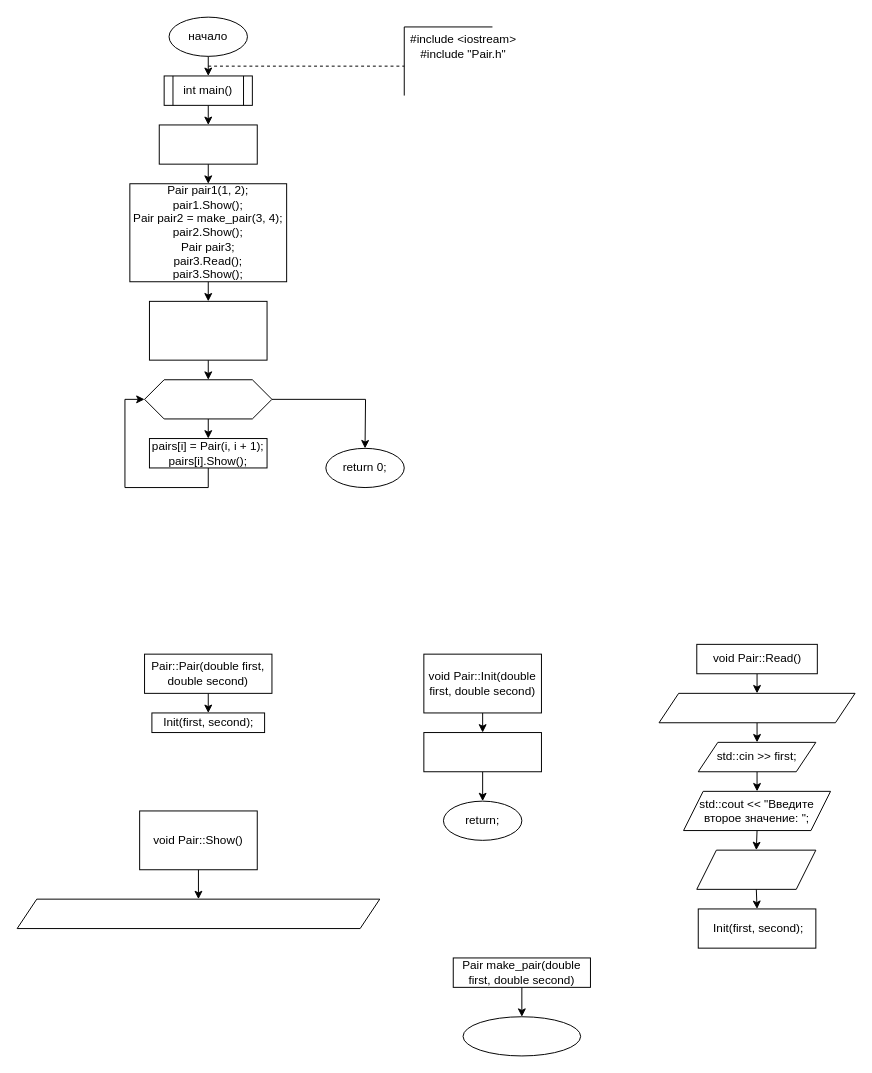
Image size: 872x1073. Some labels were removed from this diagram. Here are the shapes that lost their labels. From the top down, the centre of each, then its label:
point 207,144: setlocale(LC_ALL, "ru");
point 207,330: const int size = 5; Pair pairs[size];
point 208,399: for (int i = 0; i < size; ++i)
point 756,707: std::cout << "Введите первое значение: ";
point 482,752: this->first = first; this->second = second;
point 756,869: std::cin >> second;
point 198,913: std::cout << "Pair: (" << first << ", " << second << ")" << std::endl;
point 521,1036: return Pair(first, second);
